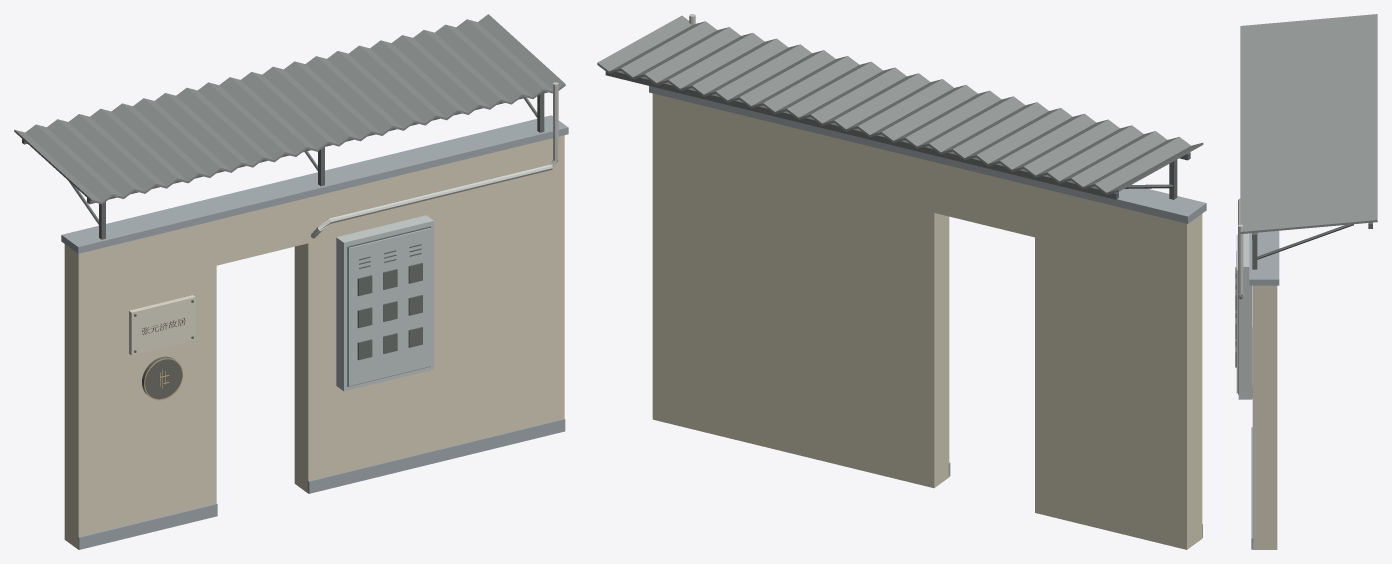
Rendered from xuhui-shangfang-garden-no24-entrance-lod.glb.
3 renders of one model, left to right at view 1: azimuth 30°, elevation 25°; view 2: azimuth 150°, elevation 25°; view 3: azimuth 270°, elevation 25°, orthographic. The views are drawn at different scales.
Parts seen in each view (by area): view 1: 上方花园24号张元济故居弄门; view 2: 上方花园24号张元济故居弄门; view 3: 上方花园24号张元济故居弄门.
Part boxes in pixels (bbox=[...]): 上方花园24号张元济故居弄门: bbox=[14, 14, 568, 549]; 上方花园24号张元济故居弄门: bbox=[597, 14, 1206, 549]; 上方花园24号张元济故居弄门: bbox=[1235, 14, 1377, 549].
Size of the model in its own units: 4.12 by 2.95 by 1.16.
